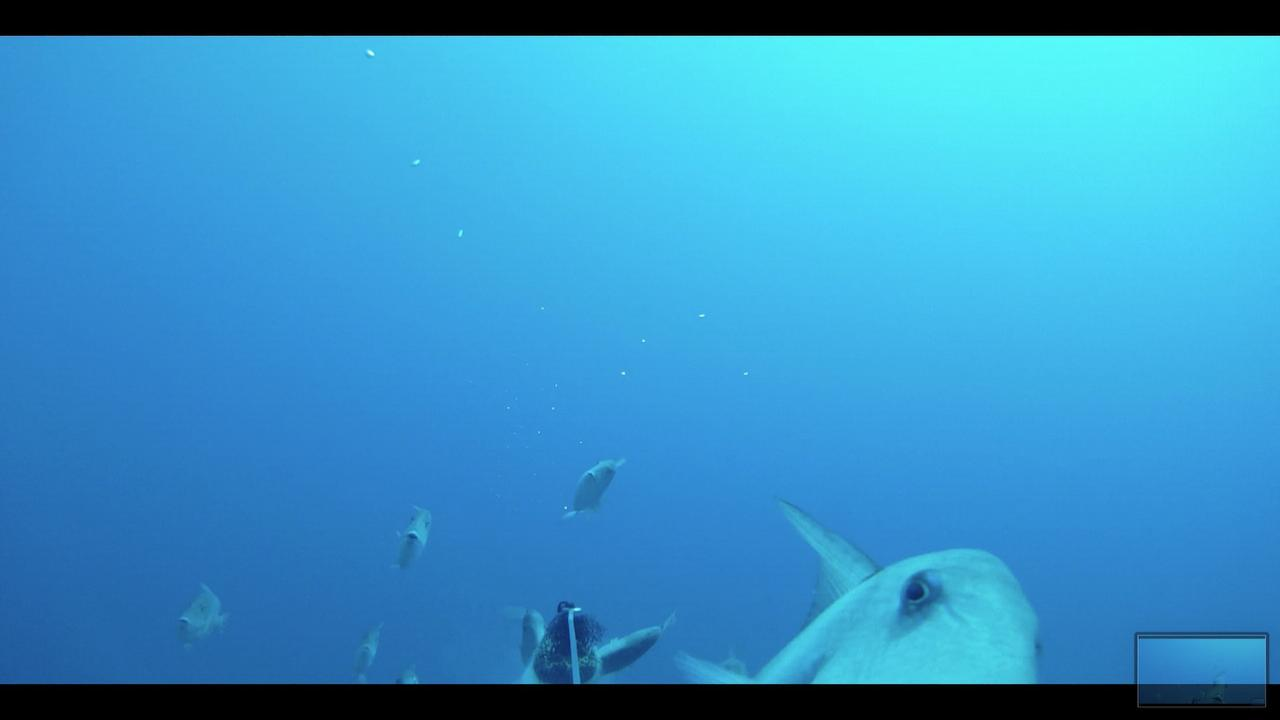balistes: (671, 490, 1054, 680), (560, 442, 628, 525), (169, 578, 232, 652), (392, 494, 433, 574), (348, 620, 385, 672)
